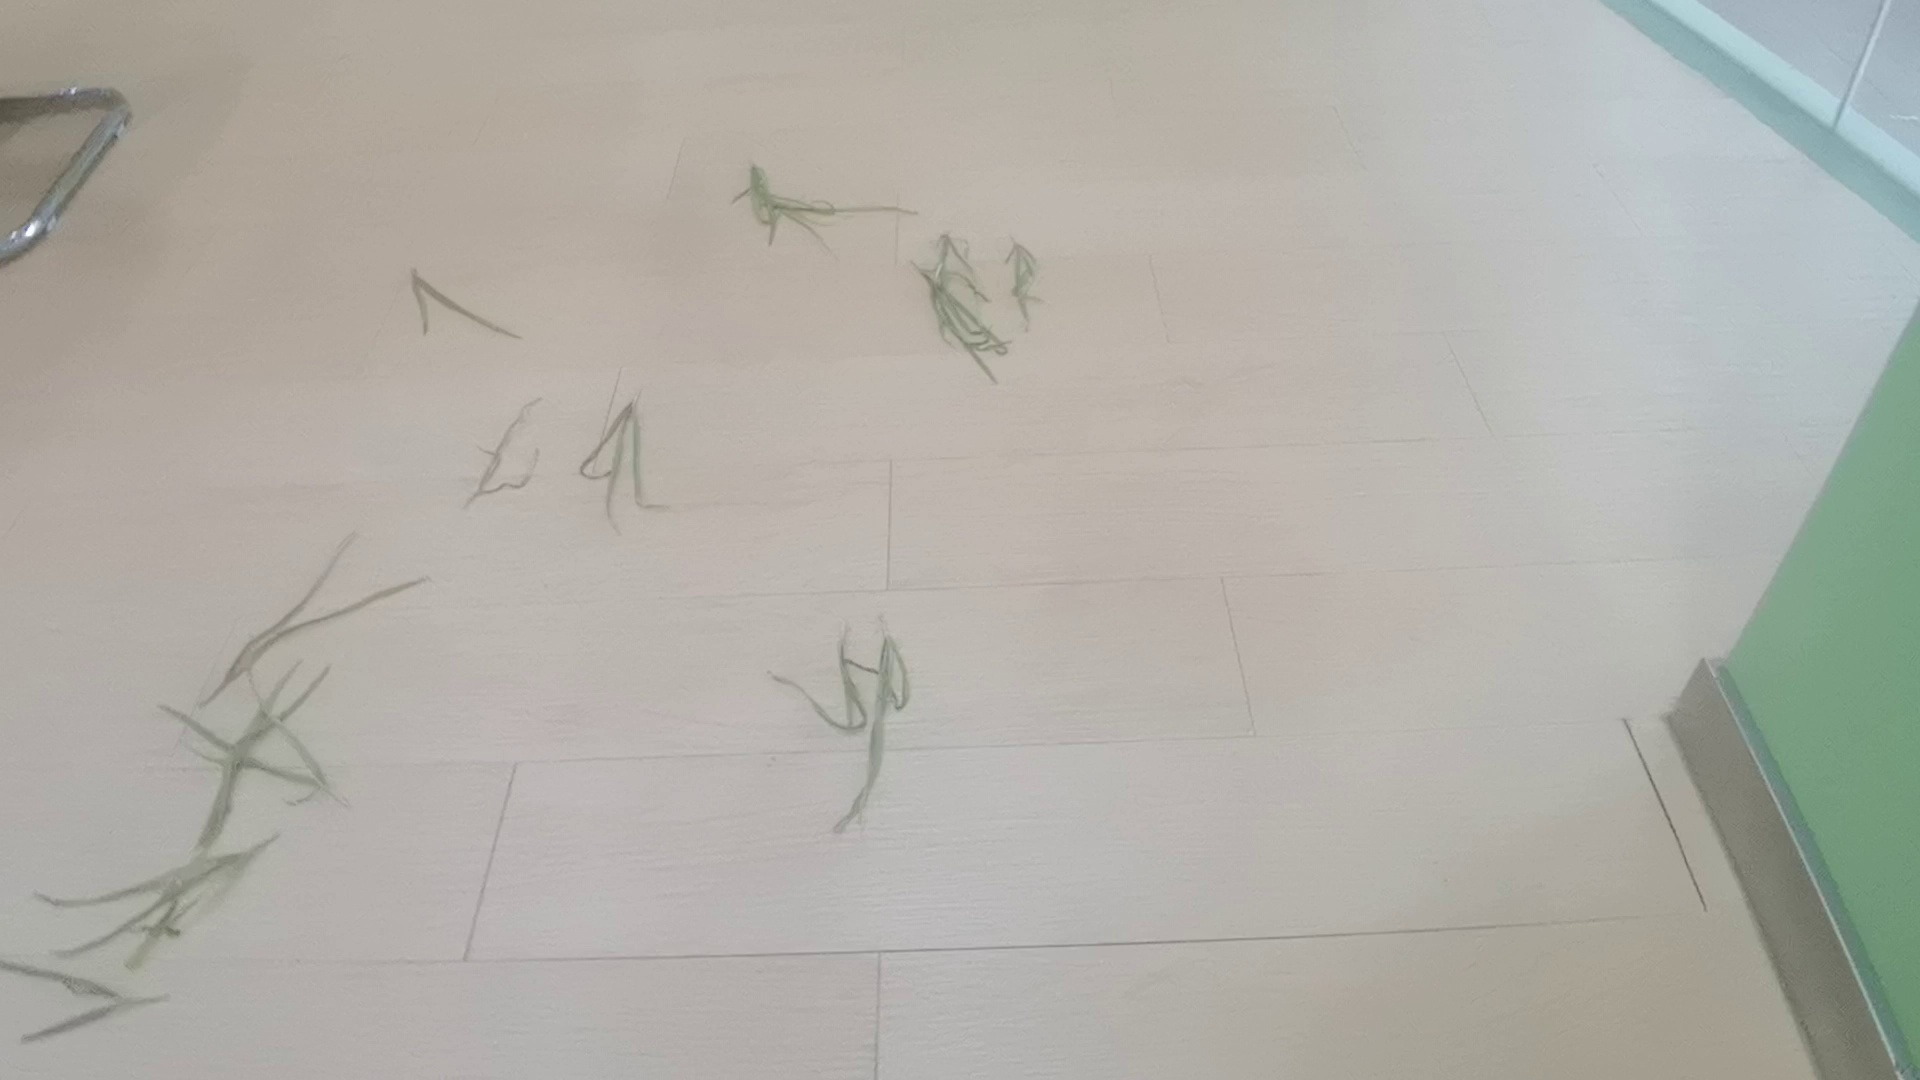chives: (17, 556, 419, 1058), (785, 609, 942, 818), (708, 131, 872, 290), (574, 390, 705, 545), (390, 248, 533, 367)
